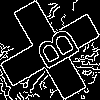B: (25, 25, 81, 77)
